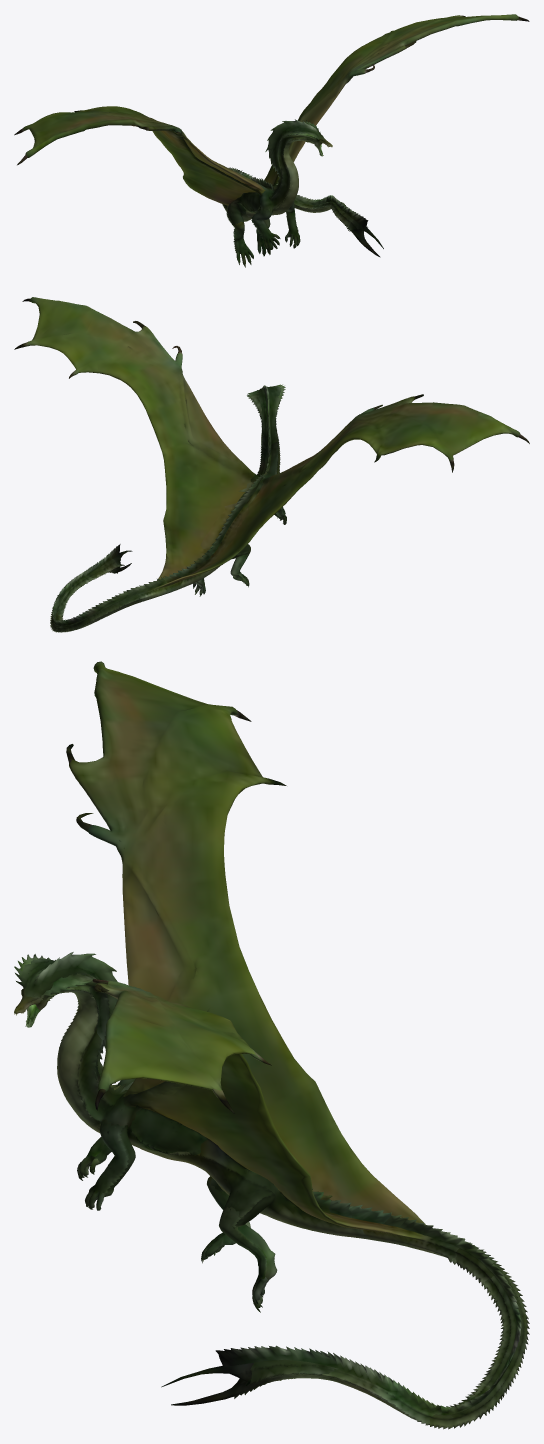
File: MZ4250 - Ancient Green Dragon_2025.glb
3 views of the same model, one above another, from view 1: azimuth 30°, elevation 25°; view 2: azimuth 150°, elevation 25°; view 3: azimuth 270°, elevation 25° (orthographic). The views are drawn at different scales.
Parts seen in each view (by area): view 1: ORGANIC BASE SPHERE.001; view 2: ORGANIC BASE SPHERE.001; view 3: ORGANIC BASE SPHERE.001.
Boxes of the visible parts, bbox=[...] form: ORGANIC BASE SPHERE.001: bbox=[14, 14, 529, 267]; ORGANIC BASE SPHERE.001: bbox=[14, 297, 529, 632]; ORGANIC BASE SPHERE.001: bbox=[14, 661, 529, 1429].
Bounding box in the file's own units: 1138 × 514 × 521.
1 material, 1 textured.
